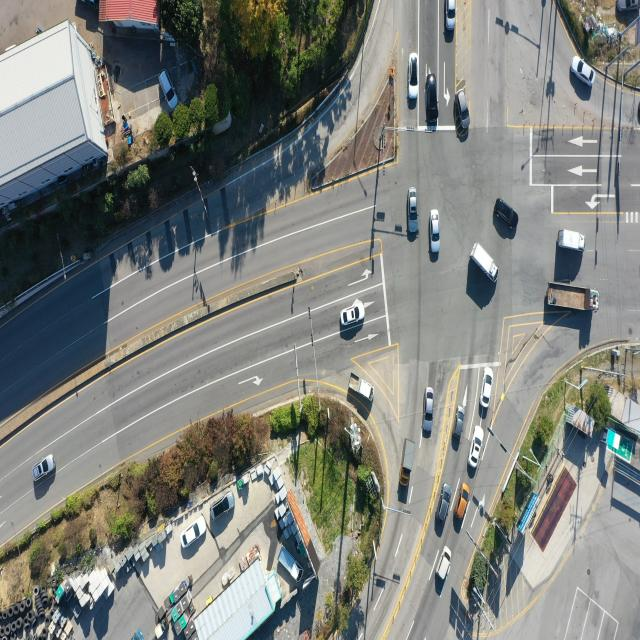car: (182, 514, 208, 550), (158, 68, 176, 110), (494, 198, 518, 228), (571, 57, 594, 88), (454, 482, 470, 525), (468, 425, 484, 467), (32, 454, 56, 481), (211, 492, 234, 520), (426, 75, 438, 128), (342, 303, 366, 328), (439, 484, 454, 524), (457, 88, 470, 134), (452, 406, 464, 450), (410, 53, 421, 100), (482, 368, 494, 409), (439, 547, 453, 582), (409, 189, 419, 236), (425, 387, 434, 435), (429, 210, 439, 253), (448, 0, 457, 31), (617, 0, 640, 12)
medium_truck: (546, 284, 598, 312)
small_truck: (472, 244, 500, 286), (278, 547, 304, 585), (347, 368, 374, 401), (558, 230, 586, 253), (400, 439, 414, 485), (131, 625, 145, 640), (80, 0, 98, 11)
